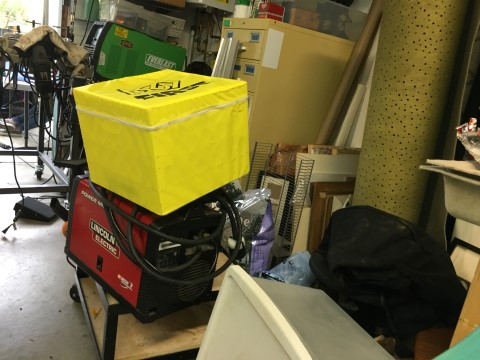cube: (72, 68, 251, 215)
